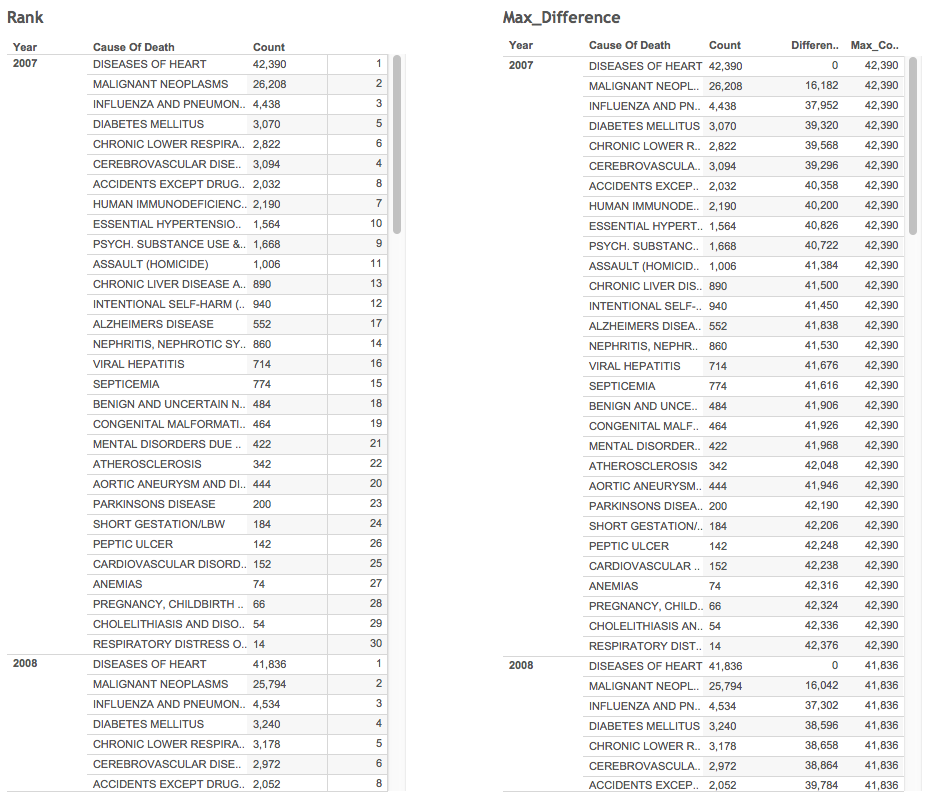

The page's visual inventory and layout, read from the dashboard file:
{"tool":"tableau","page":{"name":"Dashboard 1","canvas":[1000,800],"ordinal":0},"visuals":[{"type":"worksheet","title":"Rank","mark":"Automatic","rows":["YEAR","CAUSE_OF_DEATH","COUNT"],"box":[0,0,500,800]},{"type":"worksheet","title":"Max_Difference","mark":"Automatic","rows":["YEAR","CAUSE_OF_DEATH","COUNT"],"box":[500,0,500,800]}]}

Visuals, with their boxes on the page's 1000x800 design canvas (x1, y1, x2, y2). These are canvas units, not pixel positions in the 928x795 screenshot, which may show the page scaled, cropped or inside an application window:
"Rank" worksheet: <region>0, 0, 500, 800</region>
"Max_Difference" worksheet: <region>500, 0, 1000, 800</region>
